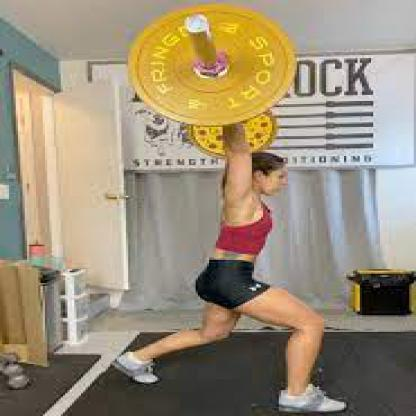Barbell: (184, 13, 215, 39)
